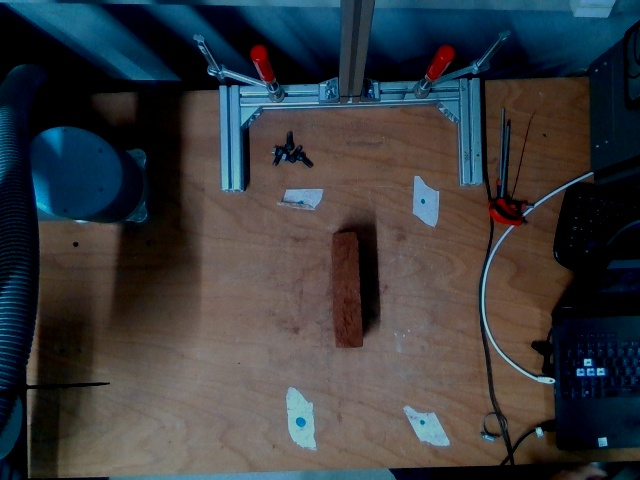brick-side: (332, 235, 361, 348)
